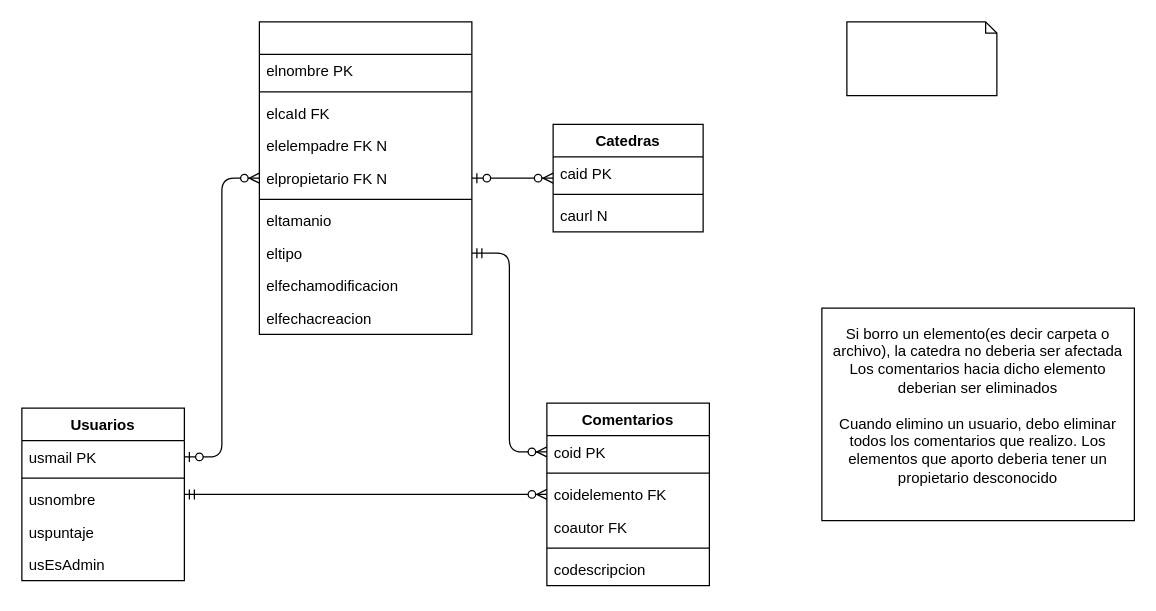
Some shapes in this 1156 by 611 pixel diagram are drawn without their labels. The box of each missing label's shape, as (x1, y1, x2, y2) in pixels:
caid es directamente el String nombre: (846, 21, 997, 96)
Elementos: (258, 21, 472, 334)
